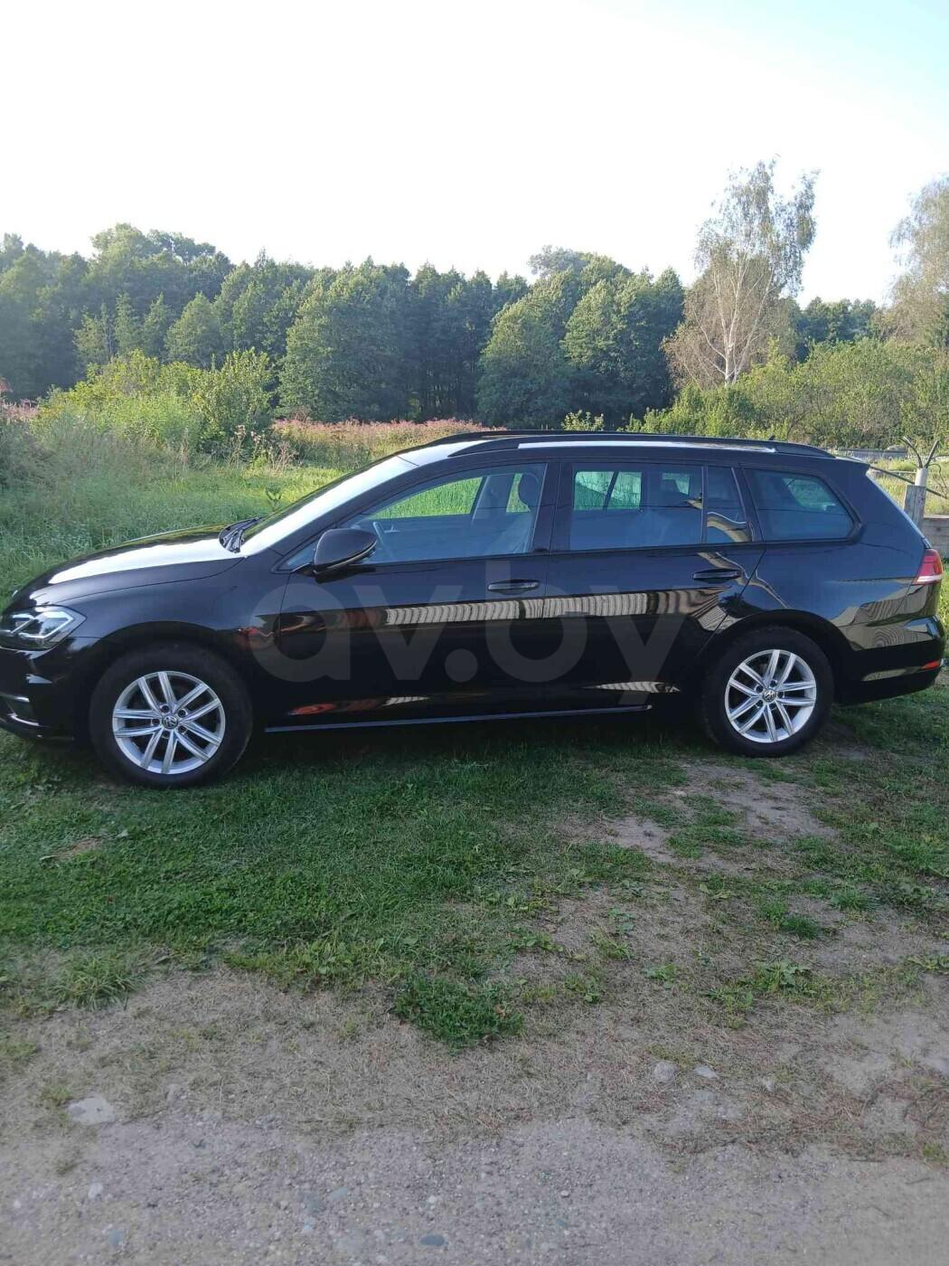Golf_2017-2021: (0, 428, 949, 781)
